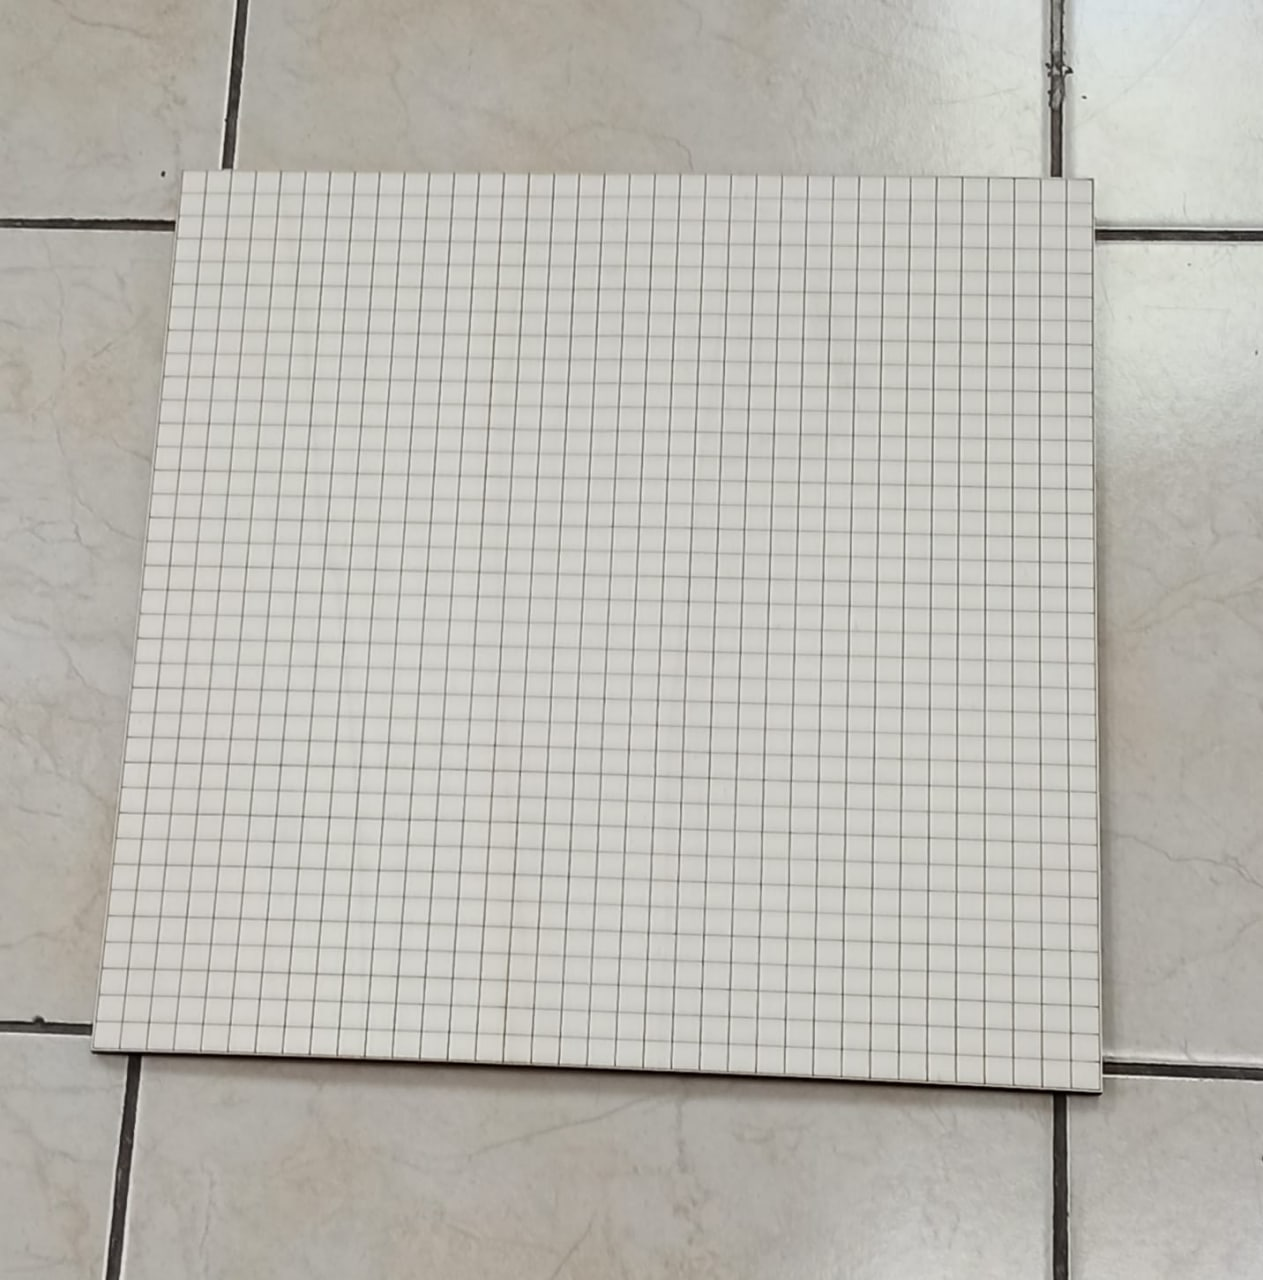grid: (84, 165, 1123, 1113)
